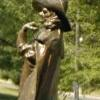Statue: (10, 3, 68, 100)
